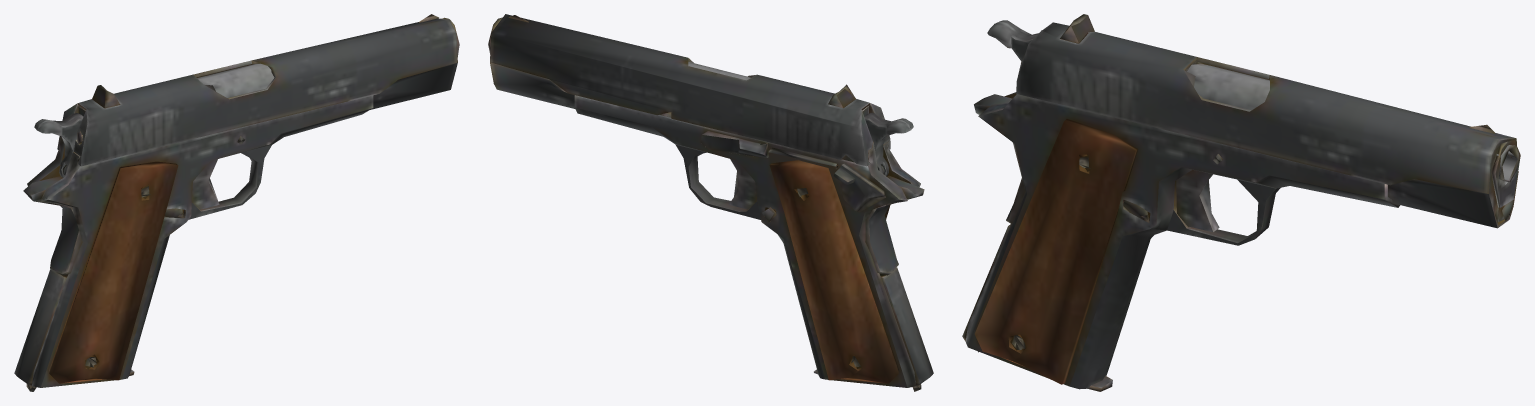
The model's file is colt_1911_lod1.glb.
3 renders of one model, left to right at view 1: azimuth 30°, elevation 25°; view 2: azimuth 150°, elevation 25°; view 3: azimuth 330°, elevation 25°, orthographic. The views are drawn at different scales.
Visible parts, largest first — view 1: base, slide, hammer; view 2: base, slide, hammer; view 3: base, slide, hammer.
Boxes of the visible parts, left/top/right/bottom form: base: left=14, top=63, right=373, bottom=391; slide: left=57, top=14, right=459, bottom=166; hammer: left=34, top=113, right=83, bottom=177; base: left=574, top=62, right=933, bottom=391; slide: left=488, top=14, right=890, bottom=166; hammer: left=864, top=112, right=913, bottom=176; base: left=962, top=63, right=1519, bottom=389; slide: left=1016, top=14, right=1520, bottom=228; hammer: left=987, top=20, right=1038, bottom=61.
Size of the model in its own units: 0.2158 by 0.1375 by 0.031.
1 material, 1 textured.
